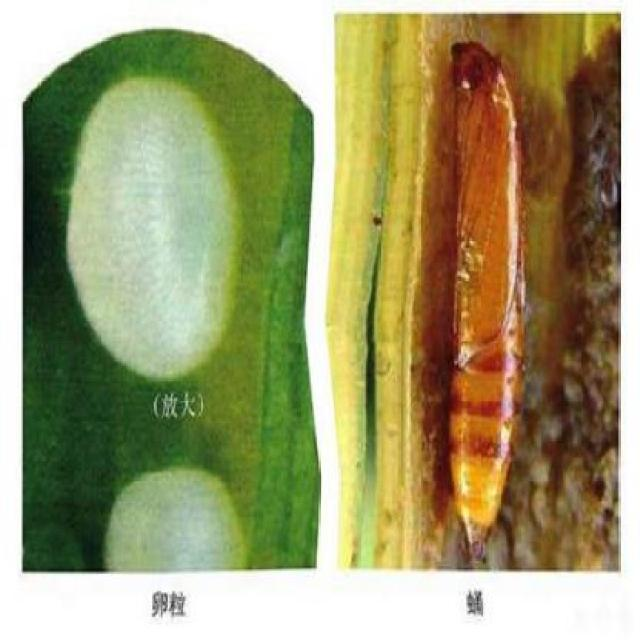whorl-maggot: (442, 34, 527, 572)
